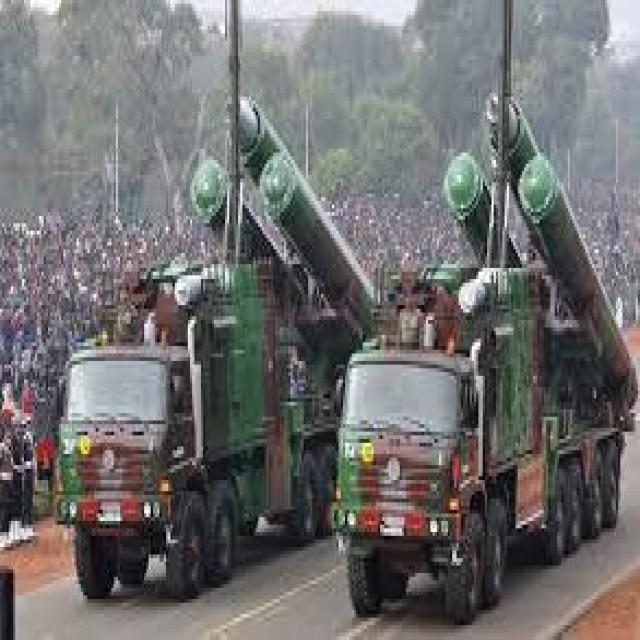Tanks: (340, 80, 573, 612), (58, 185, 318, 582)
